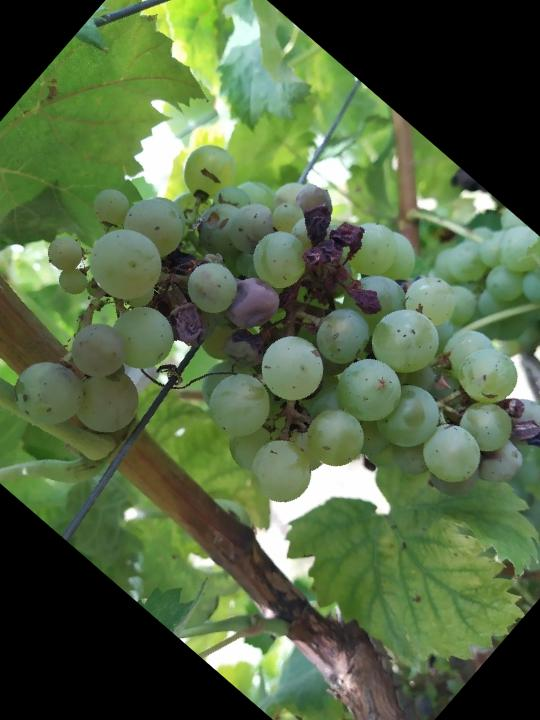grape: (0, 59, 540, 692)
